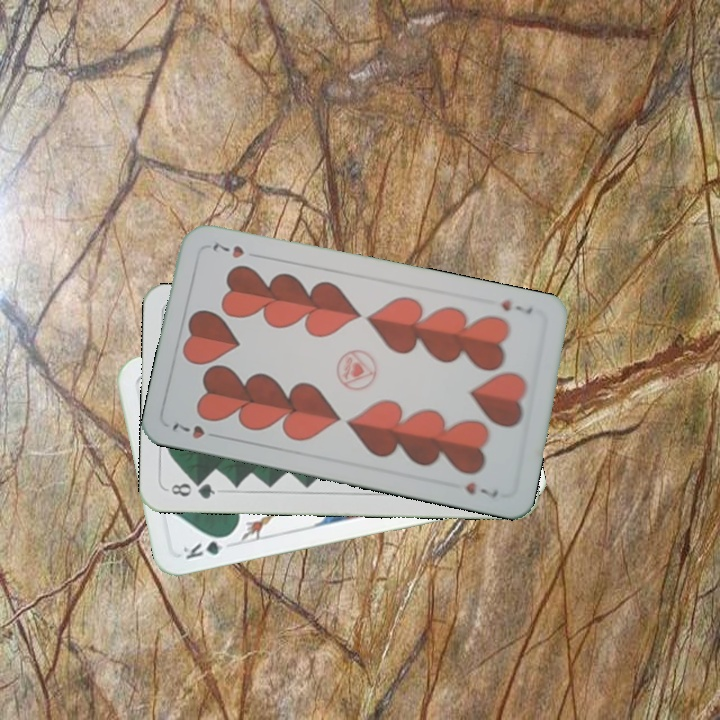G8: (167, 477, 218, 502)
GK: (179, 531, 234, 562)
H7: (168, 419, 224, 442), (497, 295, 535, 316)
